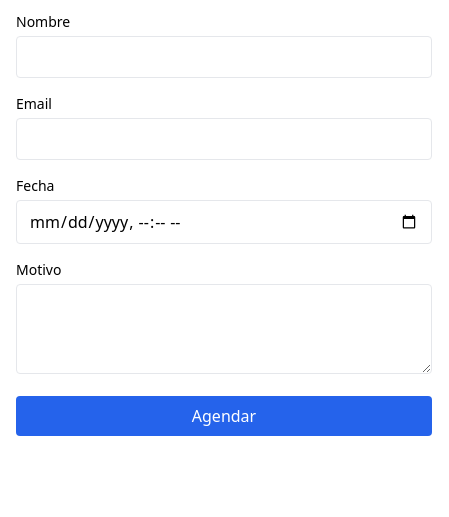
Test case: BookingForm Component › should show success message after submission
Type "John Doe" into the field labelled "Nombre" at (224, 57), box [16,36,432,78]
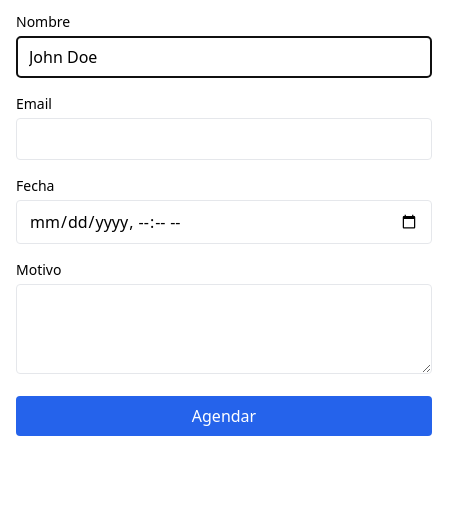
Type "john@example.com" into the field labelled "Email" at (224, 139), box [16,118,432,160]
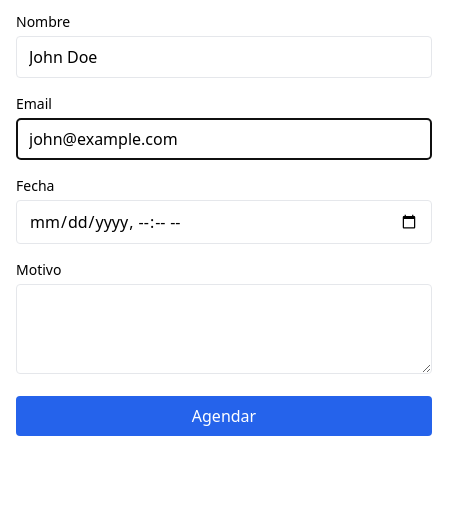
Type "2026-08-20T14:00" into the field labelled "Fecha" at (224, 222), box [16,200,432,244]
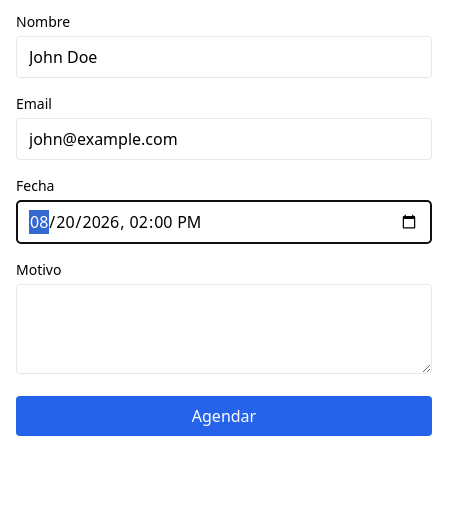
Click the button "Agendar" at (224, 416), box [16,396,432,436]
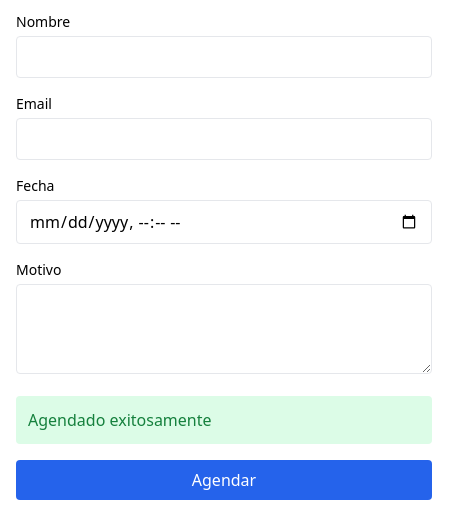
Expected: the text "Agendado exitosamente" is shown, [16,396,432,444]
